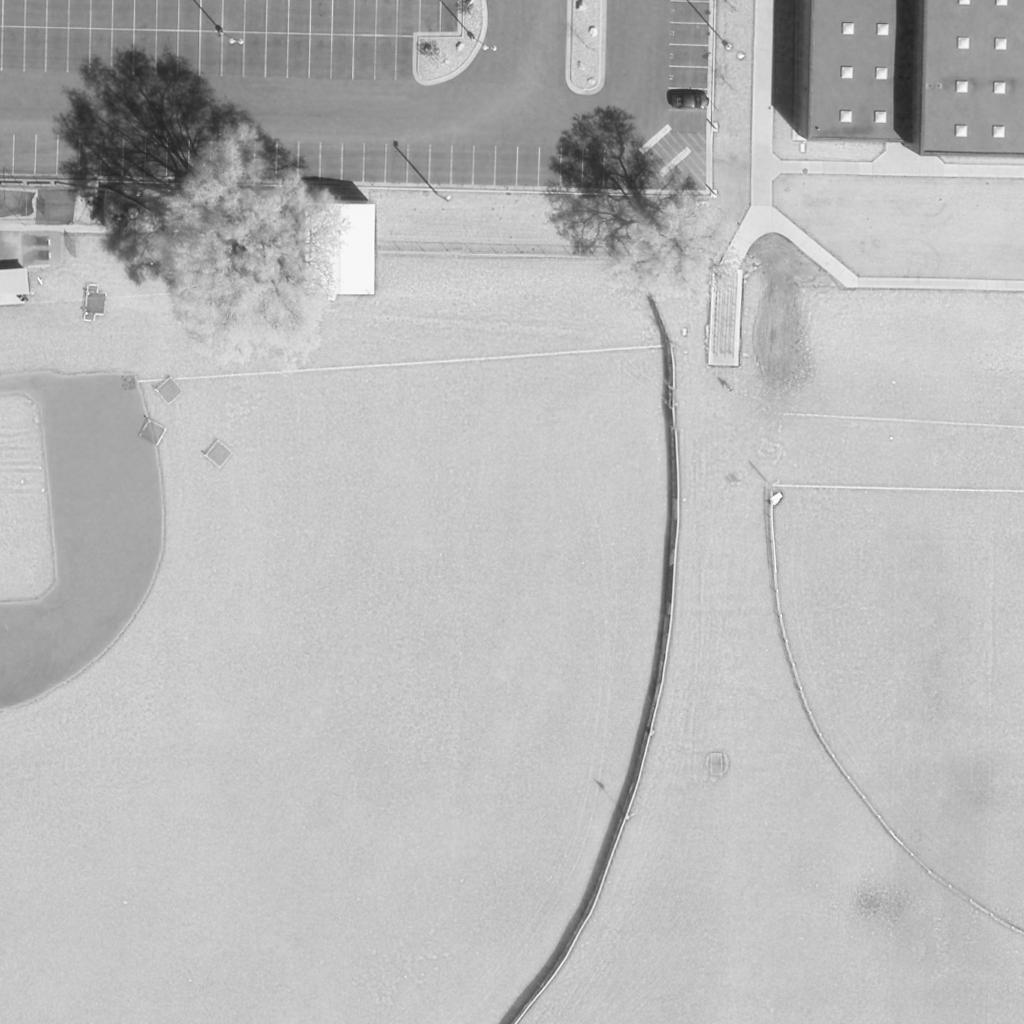vehicle: (672, 94, 710, 110)
